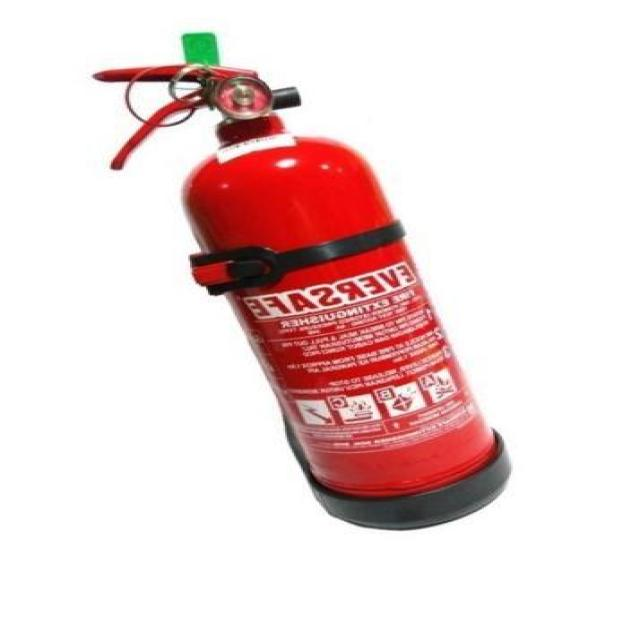fire_extinguisher: (87, 27, 519, 535)
